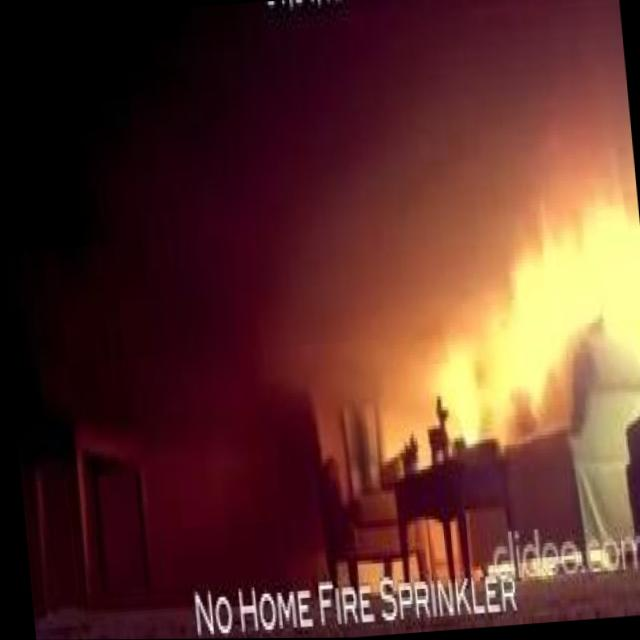fire: (468, 182, 640, 370), (473, 247, 564, 403), (432, 332, 488, 447)
